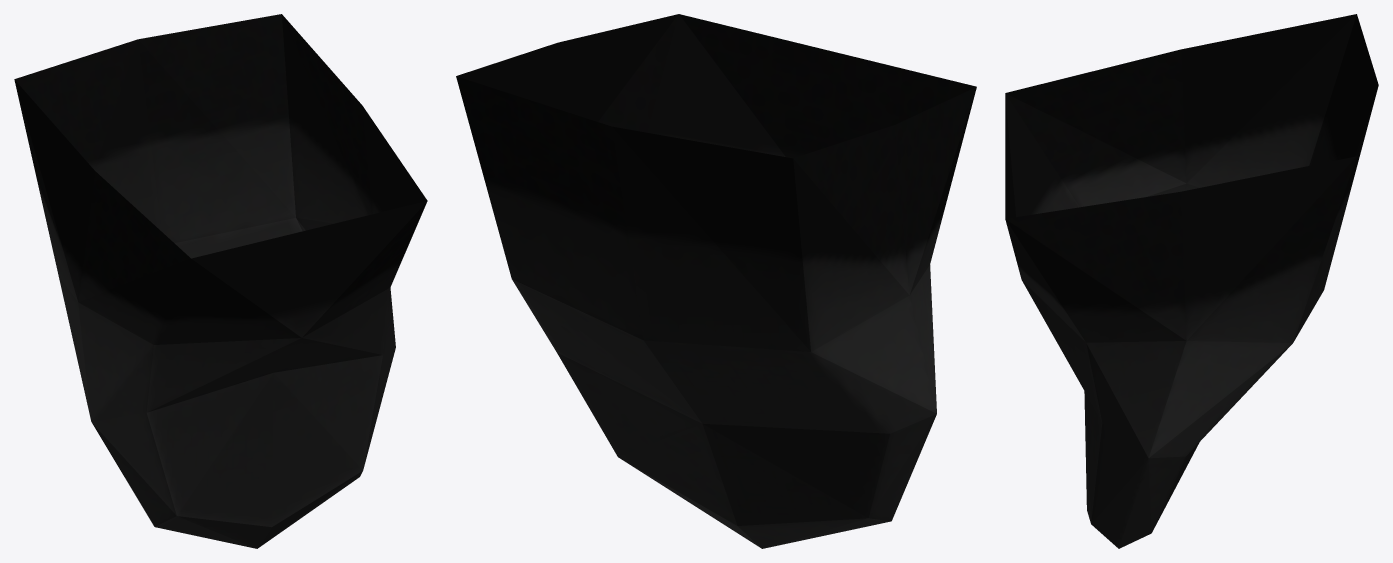
File: trigger.obj
3 views of the same model, side by side, from view 1: azimuth 30°, elevation 25°; view 2: azimuth 150°, elevation 25°; view 3: azimuth 270°, elevation 25° (orthographic). The views are drawn at different scales.
Parts seen in each view (by area): view 1: trigger_trigger_mesh; view 2: trigger_trigger_mesh; view 3: trigger_trigger_mesh.
Part boxes in pixels (x1,y1,x2,y2): trigger_trigger_mesh: (14,14,427,548); trigger_trigger_mesh: (456,14,976,548); trigger_trigger_mesh: (1005,14,1378,548).
Bounding box in the file's own units: 0.0196 × 0.026 × 0.0191.
1 material, 1 textured.
